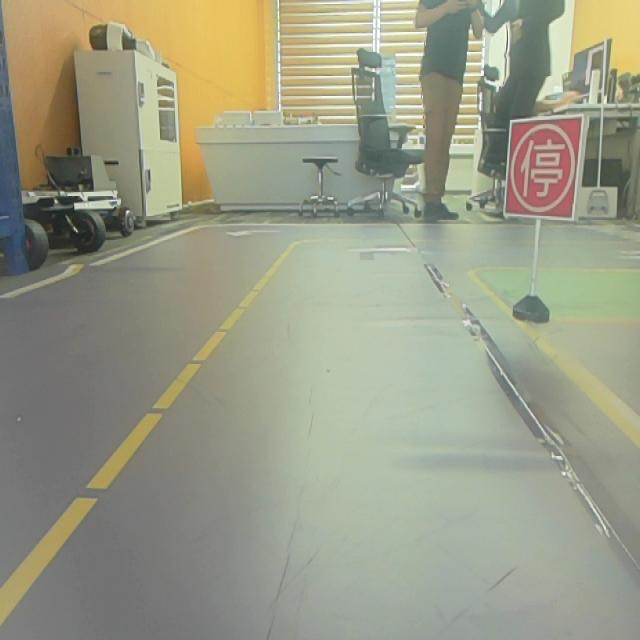left_lane: (0, 243, 296, 632)
right_lane: (470, 274, 640, 453)
